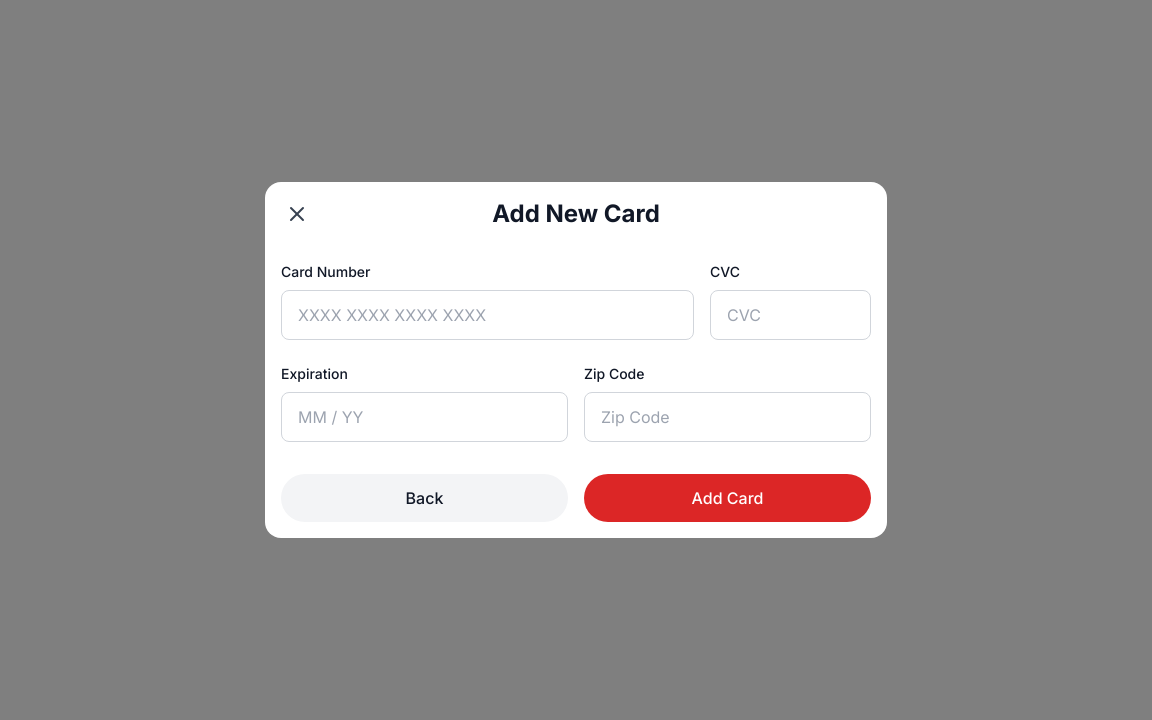
Test: AddCardModal › should format card number with spaces
The image size is (1152, 720).
Type "1234567890123456" into the field with placeholder "XXXX XXXX XXXX XXXX".
click(488, 315); type("1234567890123456")  # box [281,290,694,340]
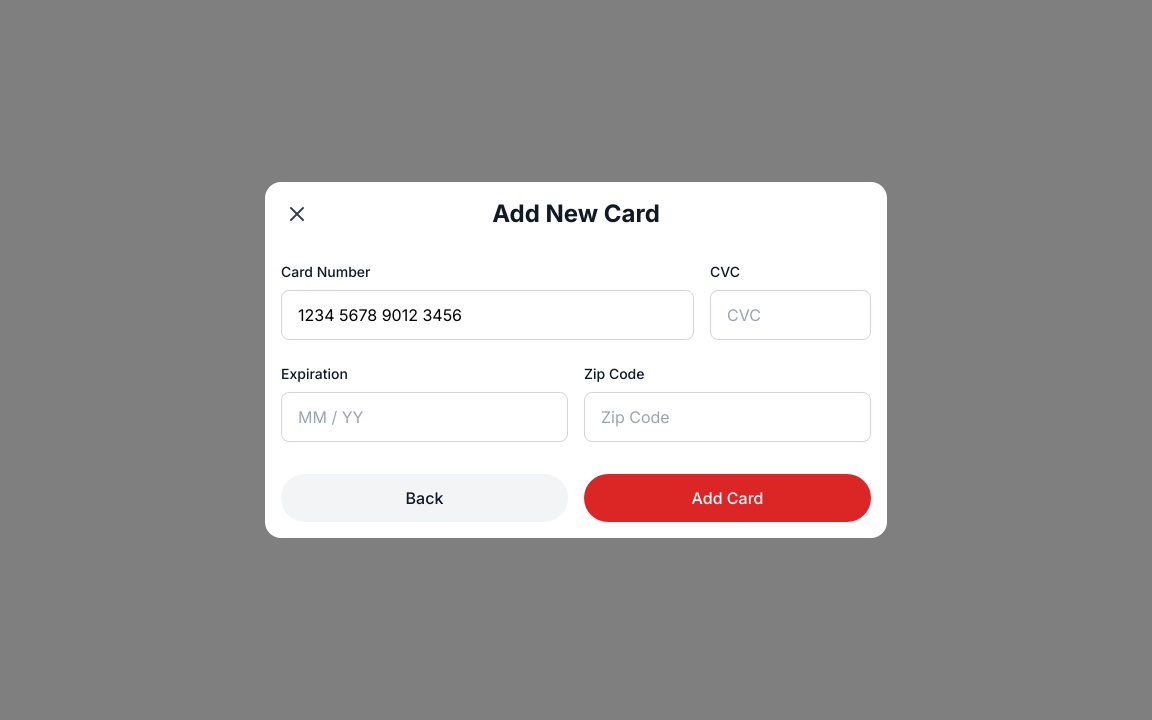
Expected: the field with placeholder "XXXX XXXX XXXX XXXX" holds "1234 5678 9012 3456", [281,290,694,340]
